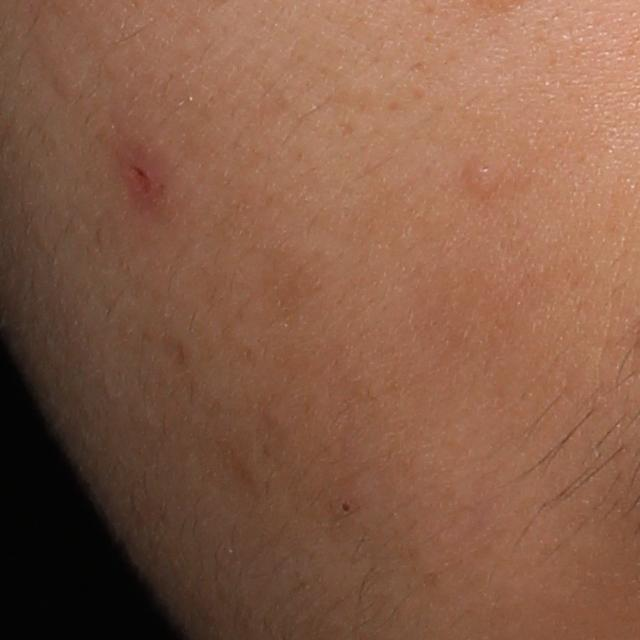comedo: (467, 161, 501, 198), (336, 500, 355, 515)
